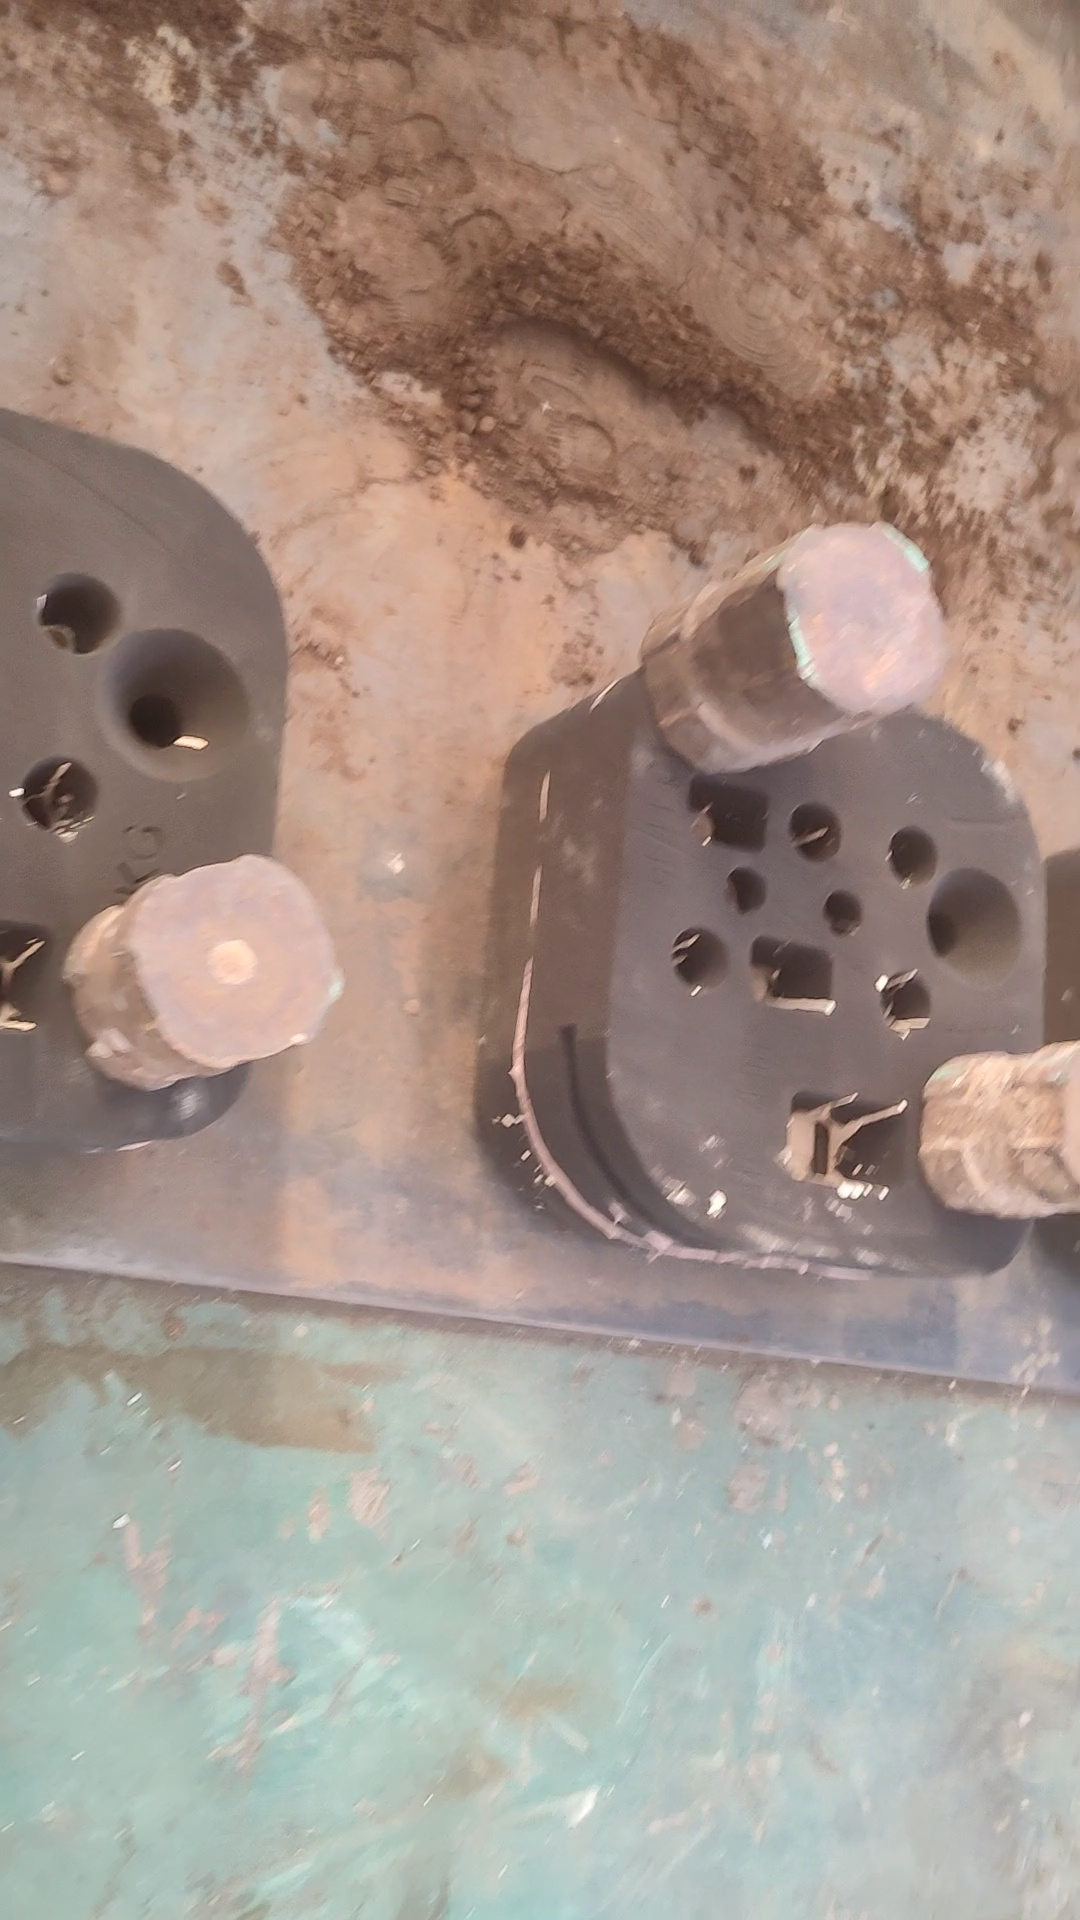pouring hole: (98, 625, 251, 783), (923, 865, 1026, 993)
